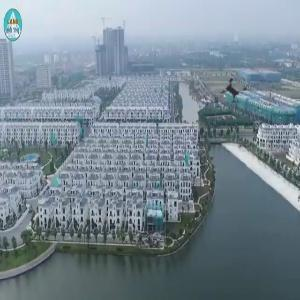drone: (204, 63, 265, 124)
